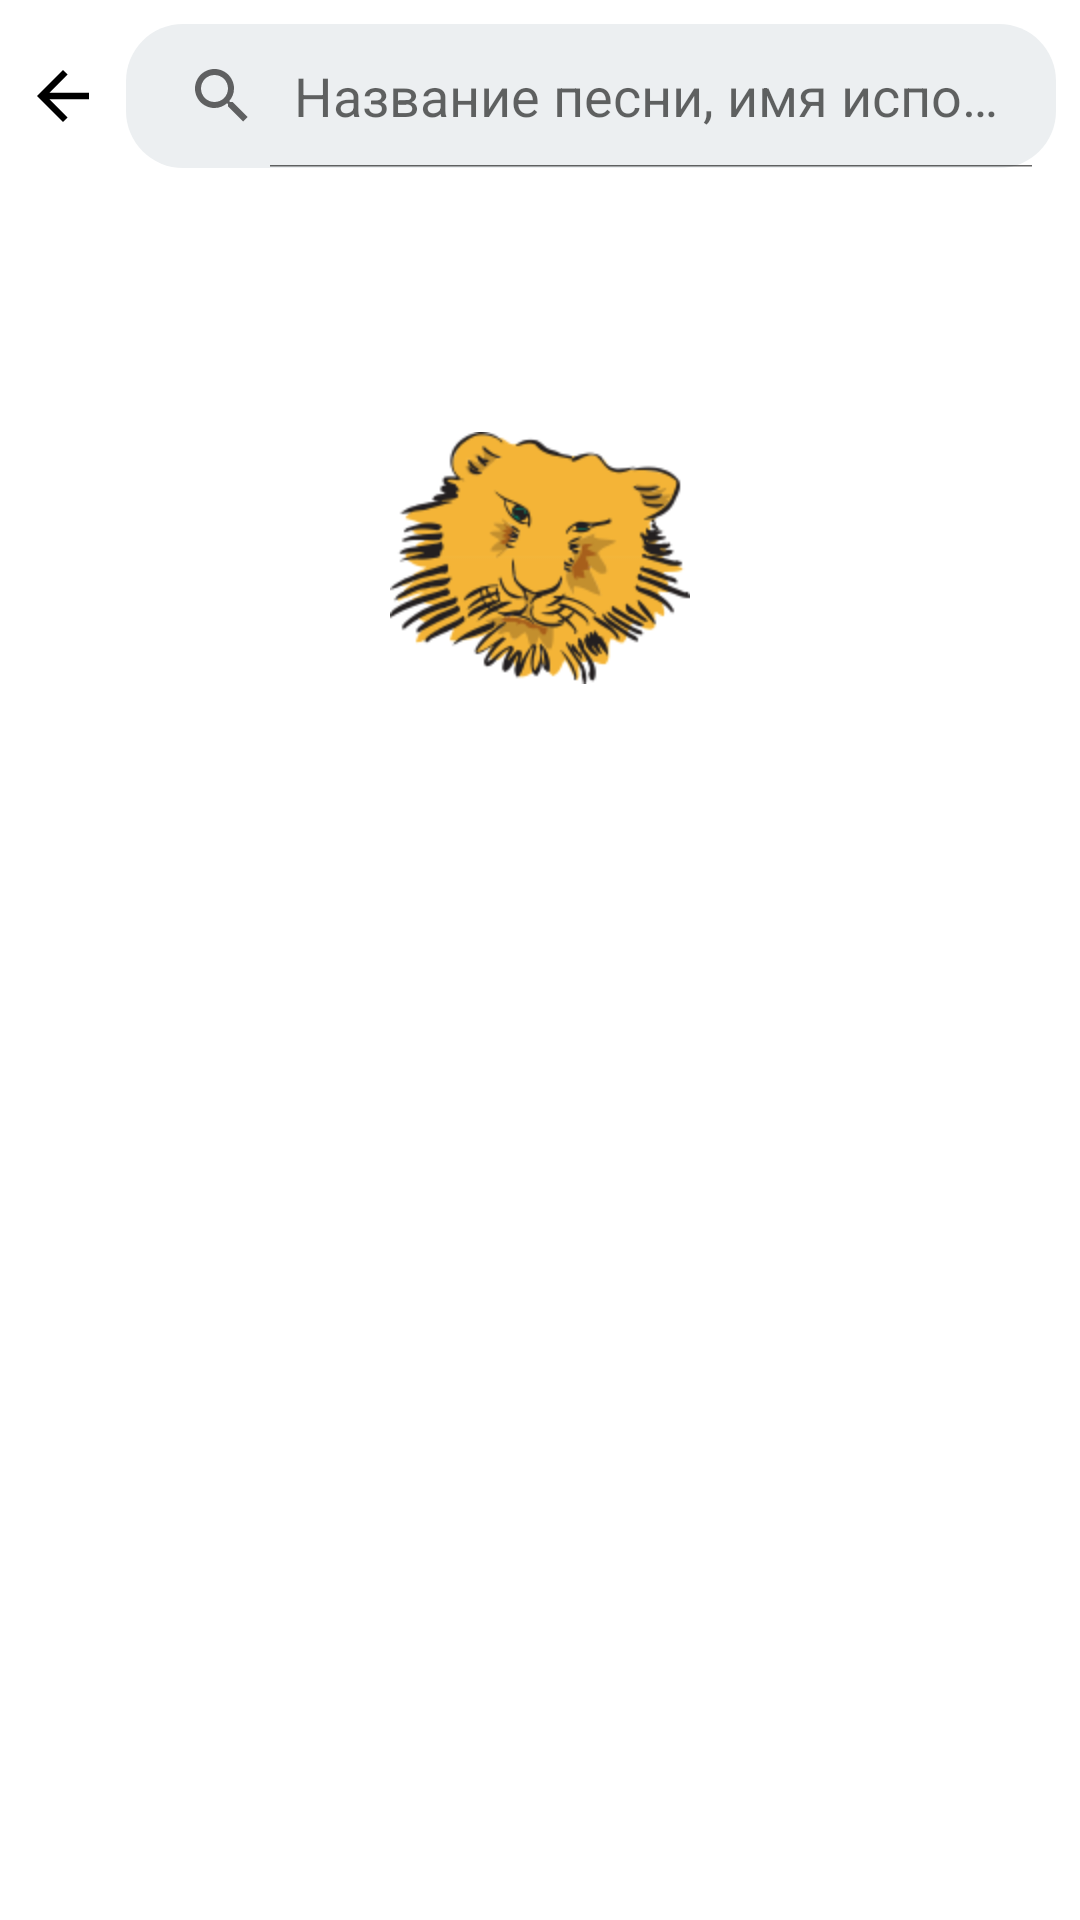

Icon bounding boxes for this 1080px x 1920px phone screenshot, format box=[x1, y1, x2, y2]:
arrow back: box=[37, 70, 89, 122]
lion: box=[390, 432, 690, 684]
